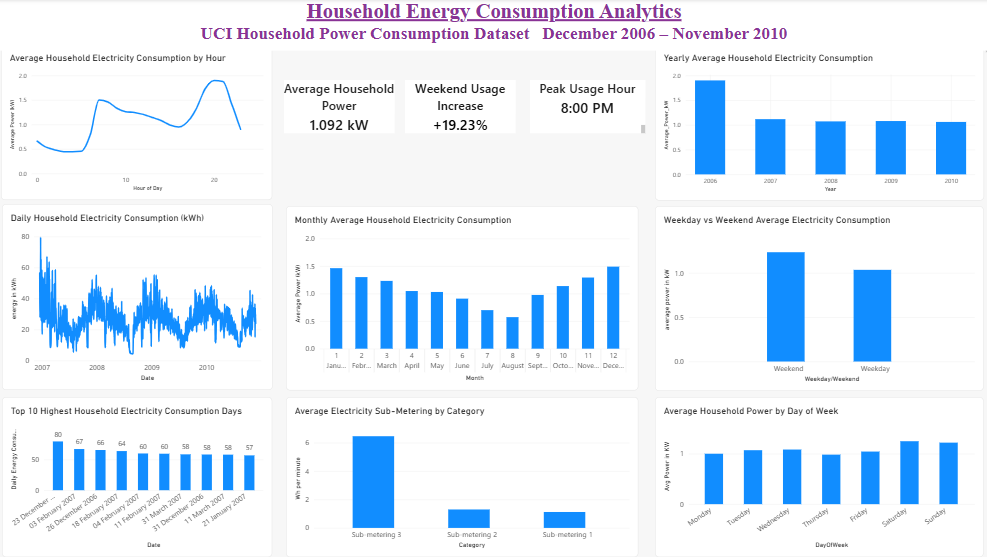

The dashboard page shown, as its layout file describes it:
{"tool":"powerbi","page":{"name":"Page 1","canvas":[1920,1080],"ordinal":0},"visuals":[{"type":"lineChart","title":"Average Household Electricity Consumption by Hour","fields":{"Category":["hourly_usage.Hour"],"Y":["Sum(hourly_usage.Average_Power_kW)"]},"box":[5,86.2,525,301.7],"z":0},{"type":"clusteredColumnChart","title":"Monthly Average Household Electricity Consumption","fields":{"Category":["monthly_usage.MonthName","monthly_usage.Month"],"Y":["Sum(monthly_usage.Average_Power_kW)"]},"box":[556.7,400,682.4,357.2],"z":1},{"type":"clusteredColumnChart","title":"Weekday vs Weekend Average Electricity Consumption","fields":{"Category":["weekend_comparison.Day_Type"],"Y":["Sum(weekend_comparison.Average_Power_kW)"]},"box":[1271.7,400,636,358],"z":2},{"type":"clusteredColumnChart","title":"Average Electricity Sub-Metering by Category","fields":{"Category":["submeter_usage.Category"],"Y":["Sum(submeter_usage.Average_Wh_per_minute)"]},"box":[557,769.6,682.4,310.4],"z":3},{"type":"lineChart","title":"Daily Household Electricity Consumption (kWh)","fields":{"Category":["complete_daily_usage.Date"],"Y":["Sum(complete_daily_usage.Daily_Energy_kWh)"]},"box":[7.5,396.2,524,360],"z":4},{"type":"clusteredColumnChart","title":"Yearly Average Household Electricity Consumption","fields":{"Category":["yearly_usage.Year"],"Y":["Sum(yearly_usage.Average_Power_kW)"]},"box":[1271.7,86.7,636.7,303.3],"z":5},{"type":"clusteredColumnChart","title":"Top 10 Highest Household Electricity Consumption Days","fields":{"Category":["top_10_days.Date"],"Y":["Sum(top_10_days.Daily_Energy_kWh)"]},"box":[7.5,770,523,310.4],"z":6},{"type":"clusteredColumnChart","title":"Average Household Power by Day of Week","fields":{"Category":["WeekdaySort.DayOfWeek"],"Y":["Sum(weekday_usage.Average_Power_kW)"]},"box":[1271.3,769.6,635.7,310.4],"z":7},{"type":"textbox","title":"Household Energy Consumption Analytics","box":[0,0,1920,103.3],"z":8},{"type":"textbox","title":"Weekend Usage Increase","box":[787.5,157.5,213.8,102.5],"z":12},{"type":"textbox","title":"Average Household Power","box":[553.8,157.5,213.8,102.5],"z":13},{"type":"textbox","title":"Peak Usage Hour","box":[1028.8,157.5,222.5,102.5],"z":14}]}

Visuals, with their boxes in screenshot pixels (x1, y1, x2, y2), scaled from the page's 1920x1080 canvas onto the 987x557 screenshot:
"Average Household Electricity Consumption by Hour" lineChart: <bbox>3, 44, 272, 200</bbox>
"Monthly Average Household Electricity Consumption" clusteredColumnChart: <bbox>286, 206, 637, 391</bbox>
"Weekday vs Weekend Average Electricity Consumption" clusteredColumnChart: <bbox>654, 206, 981, 391</bbox>
"Average Electricity Sub-Metering by Category" clusteredColumnChart: <bbox>286, 397, 637, 556</bbox>
"Daily Household Electricity Consumption (kWh)" lineChart: <bbox>4, 204, 273, 390</bbox>
"Yearly Average Household Electricity Consumption" clusteredColumnChart: <bbox>654, 45, 981, 201</bbox>
"Top 10 Highest Household Electricity Consumption Days" clusteredColumnChart: <bbox>4, 397, 273, 556</bbox>
"Average Household Power by Day of Week" clusteredColumnChart: <bbox>654, 397, 980, 556</bbox>
"Household Energy Consumption Analytics" textbox: <bbox>0, 0, 986, 53</bbox>
"Weekend Usage Increase" textbox: <bbox>405, 81, 515, 134</bbox>
"Average Household Power" textbox: <bbox>285, 81, 395, 134</bbox>
"Peak Usage Hour" textbox: <bbox>529, 81, 643, 134</bbox>
